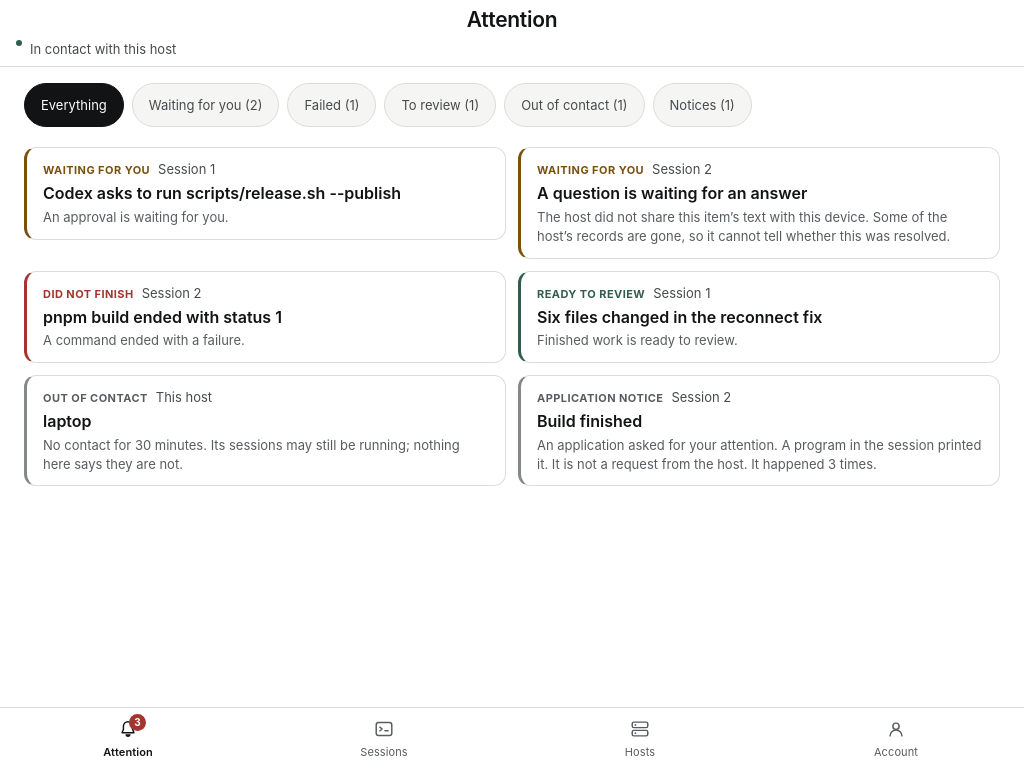
Test: the Hosts screen of a phone › says why a host could not be used, and leaves the choice open
Click the button "Hosts" at (640, 738), box [512,708,768,767]
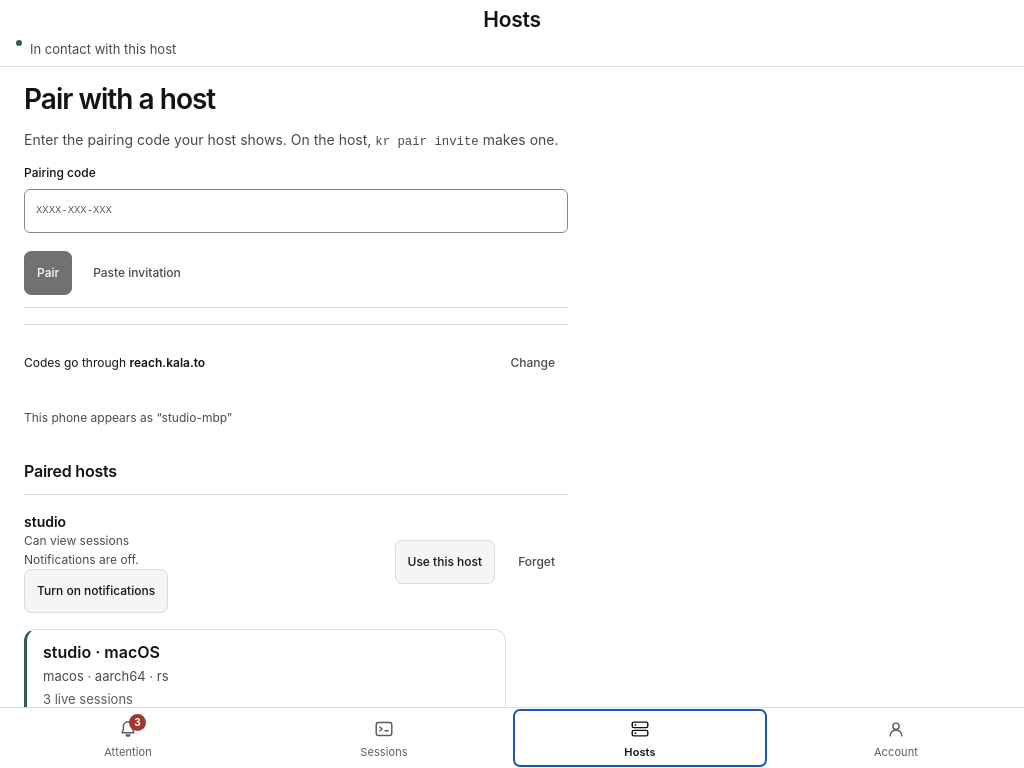
Click the button with test id "use-host" at (445, 562), box [394,540,495,584]
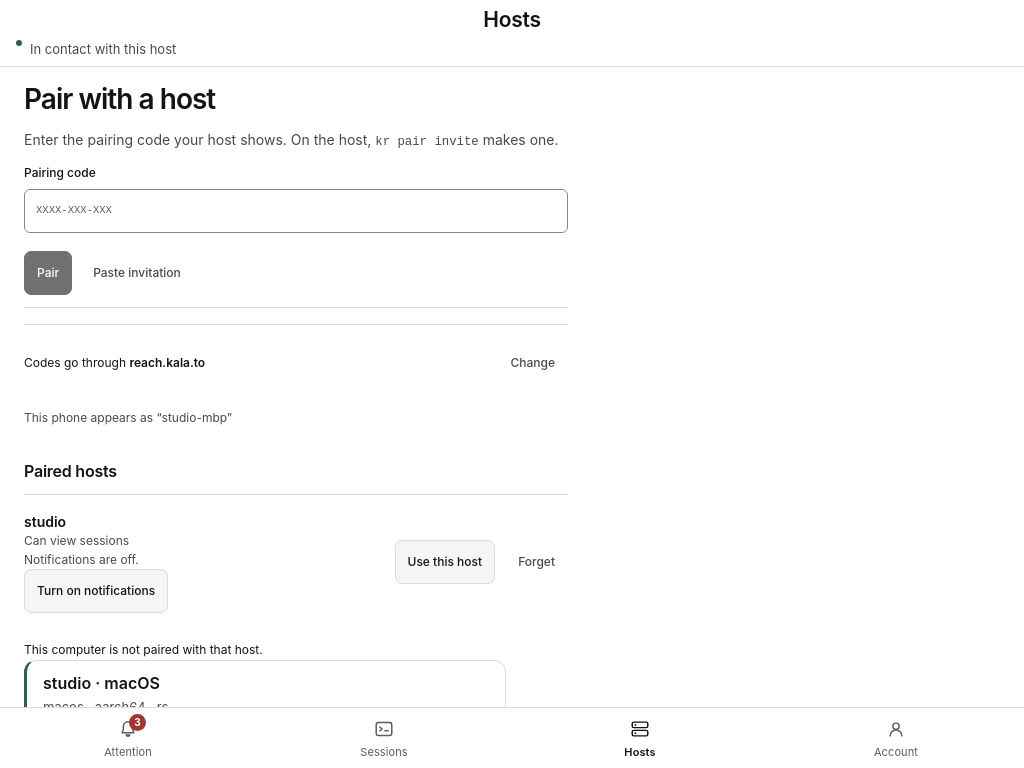
Result: the button with test id "use-host" is enabled at [394,540,495,584]
Result: the message with test id "use-host-failure" shows "not paired with that host" at [24,642,263,657]
